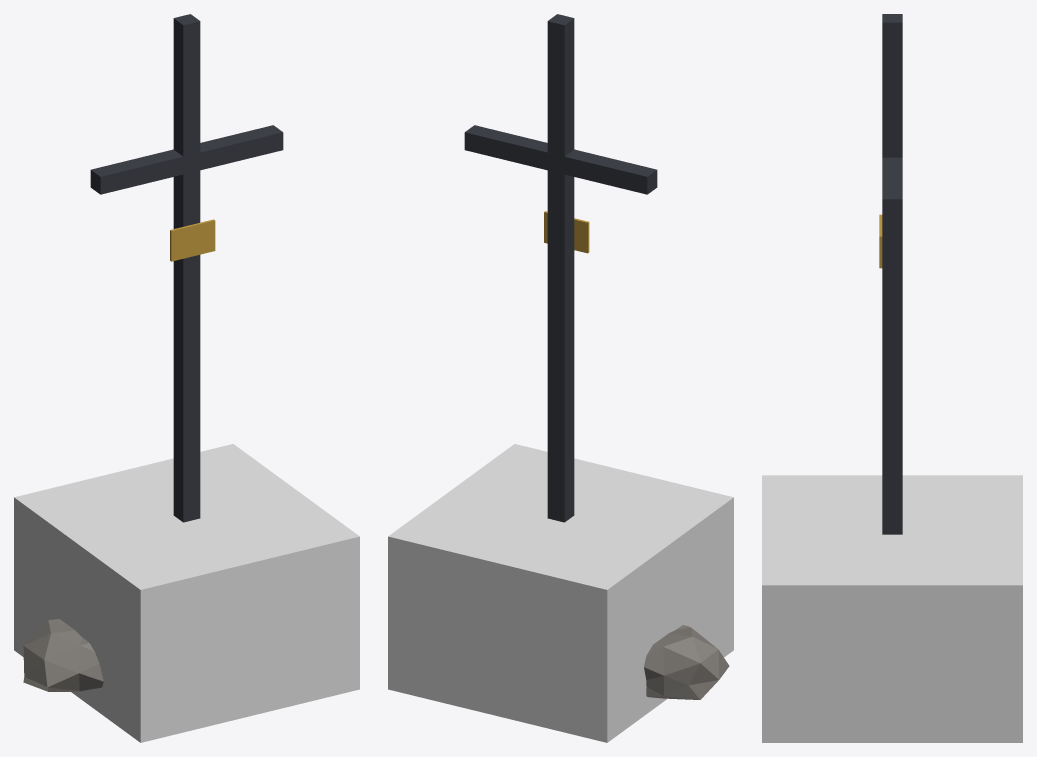
Rendered from cruz_cumbre.glb.
3 renders of one model, left to right at view 1: azimuth 30°, elevation 25°; view 2: azimuth 150°, elevation 25°; view 3: azimuth 270°, elevation 25°, orthographic. The views are drawn at different scales.
Visible parts, largest first — view 1: COL_0, cruz_cumbre_Malla; view 2: COL_0, cruz_cumbre_Malla; view 3: COL_0, cruz_cumbre_Malla.
Boxes of the visible parts, x1=… form: COL_0: x1=14, y1=444, x2=359, y2=742; cruz_cumbre_Malla: x1=23, y1=14, x2=283, y2=691; COL_0: x1=388, y1=444, x2=733, y2=742; cruz_cumbre_Malla: x1=464, y1=14, x2=729, y2=699; COL_0: x1=762, y1=475, x2=1022, y2=742; cruz_cumbre_Malla: x1=879, y1=14, x2=902, y2=534.
Bounding box in the file's own units: 2.22 × 5.1 × 1.8.
